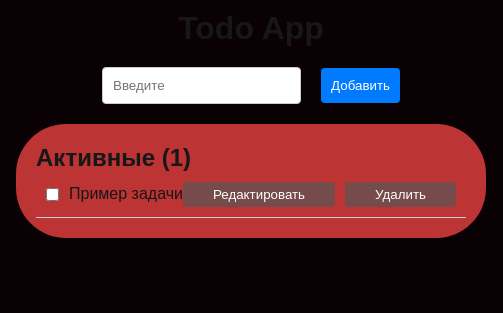
Todo App › should create a new todo
In the field with placeholder "Введите": [202, 86] box [102, 67, 301, 104], type "Купить молоко"
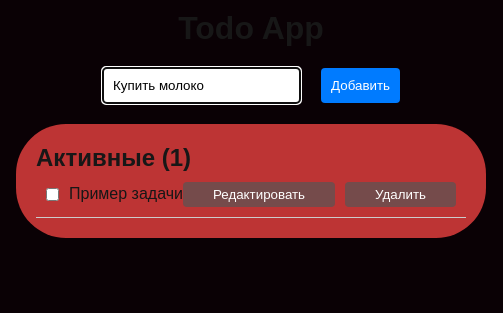
Click the submit button: [361, 86] box [321, 68, 400, 103]
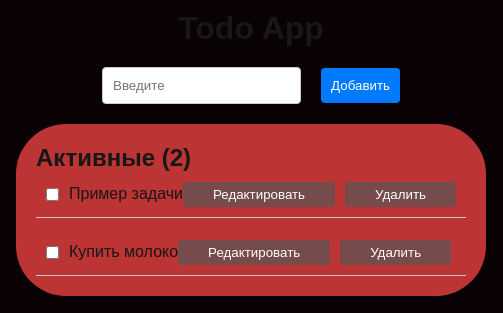
Now the text "Купить молоко" is shown, box [69, 243, 178, 260]
